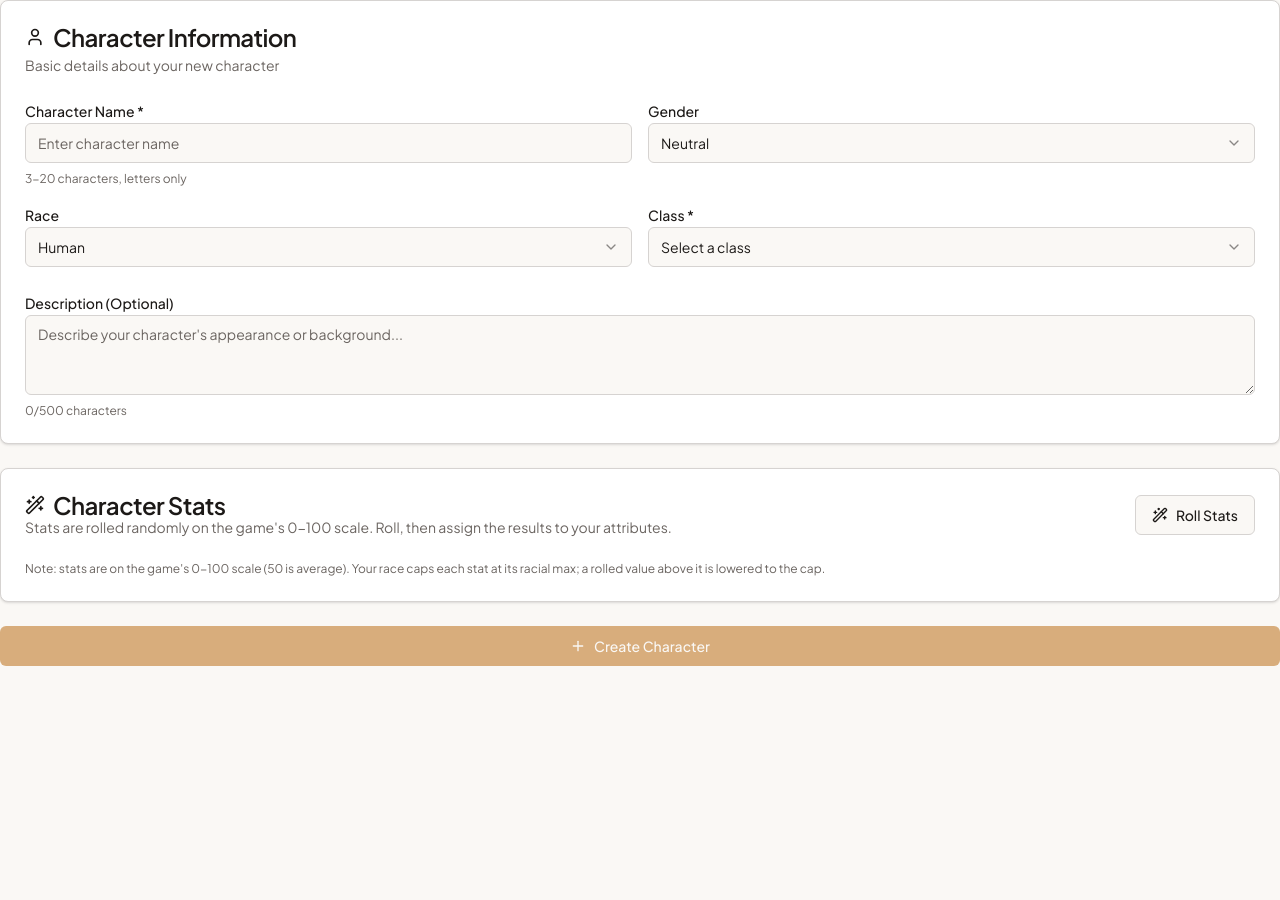
Test: CharacterCreationForm › shows the assignment pickers once the server roll arrives
Click the button "Roll Stats" at (1195, 515), box [1135,495,1255,535]
(page scrolled)
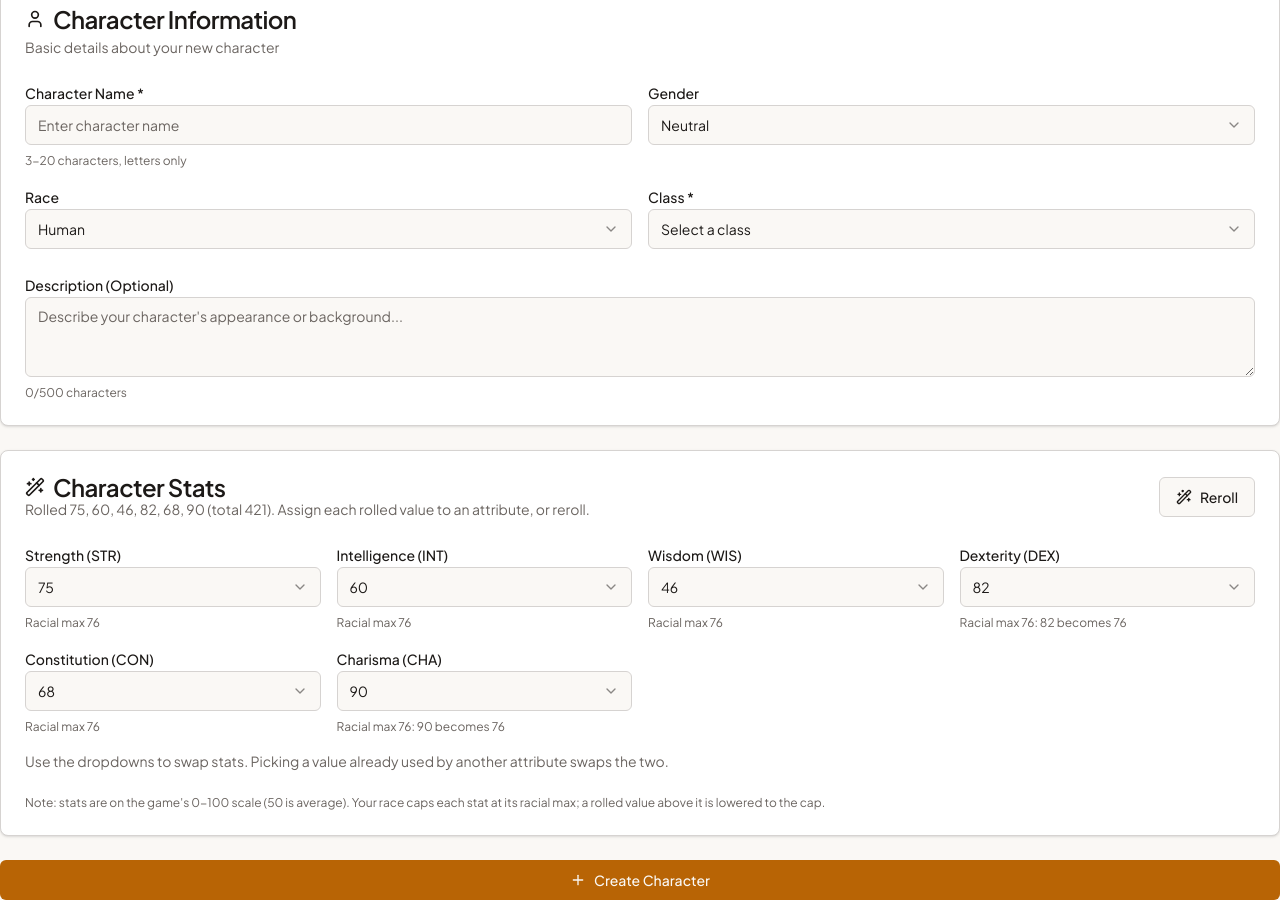
Now the dropdown named "Strength" is shown, box [25,567,320,607]
Now the button "Reroll" is shown, box [1159,477,1255,517]
Now the button "Create Character" is enabled, box [0,860,1279,899]
